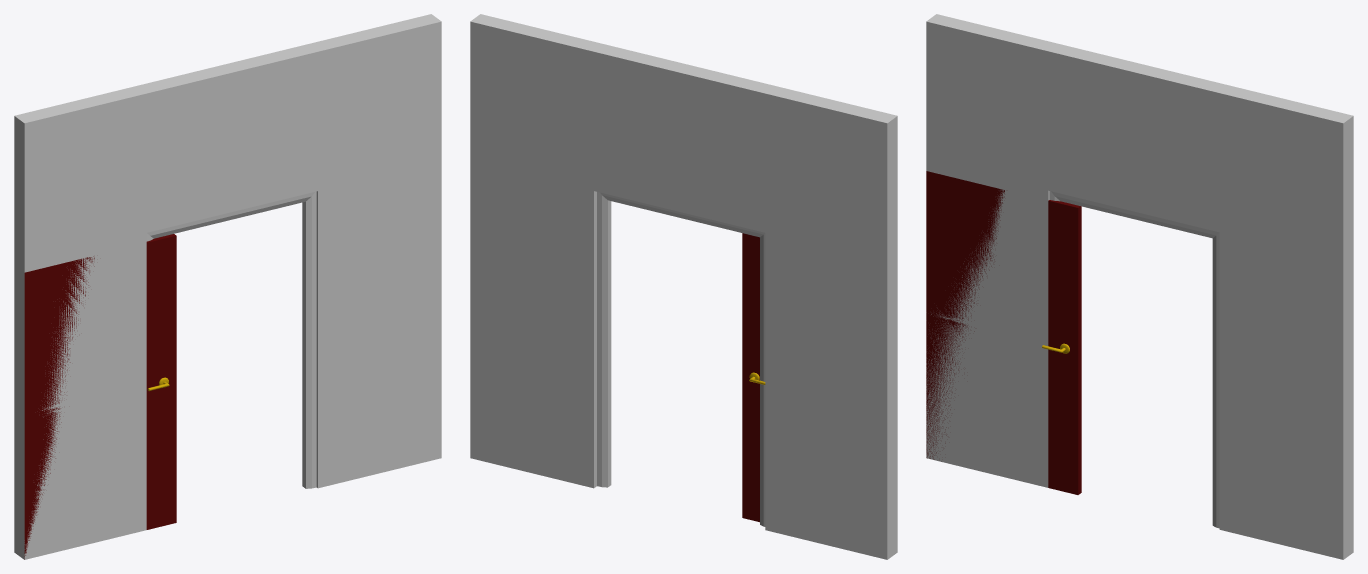
The model's file is wall(door).fbx.
3 renders of one model, left to right at view 1: azimuth 30°, elevation 25°; view 2: azimuth 150°, elevation 25°; view 3: azimuth 330°, elevation 25°, orthographic.
Parts seen in each view (by area): view 1: Wall, Door, DoorFrame; view 2: Wall, DoorFrame, Door; view 3: Wall, Door, DoorFrame.
Boxes of the visible parts, x1,y1,x2,y2 form: Wall: (14, 14, 441, 559); Door: (24, 234, 176, 559); DoorFrame: (146, 191, 316, 488); Wall: (470, 14, 897, 559); DoorFrame: (597, 192, 765, 526); Door: (742, 233, 765, 522); Wall: (926, 14, 1353, 559); Door: (926, 171, 1081, 494); DoorFrame: (1049, 191, 1219, 528).
Bounding box in the file's own units: 350 × 350 × 21.55.
